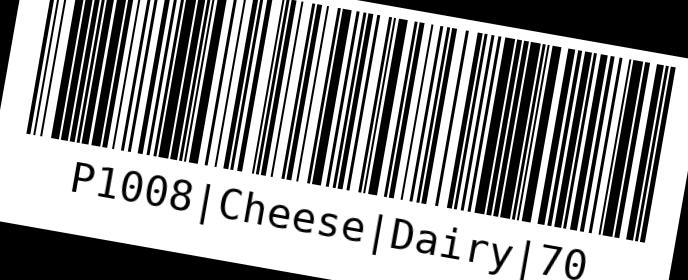milk: (11, 0, 687, 279)
